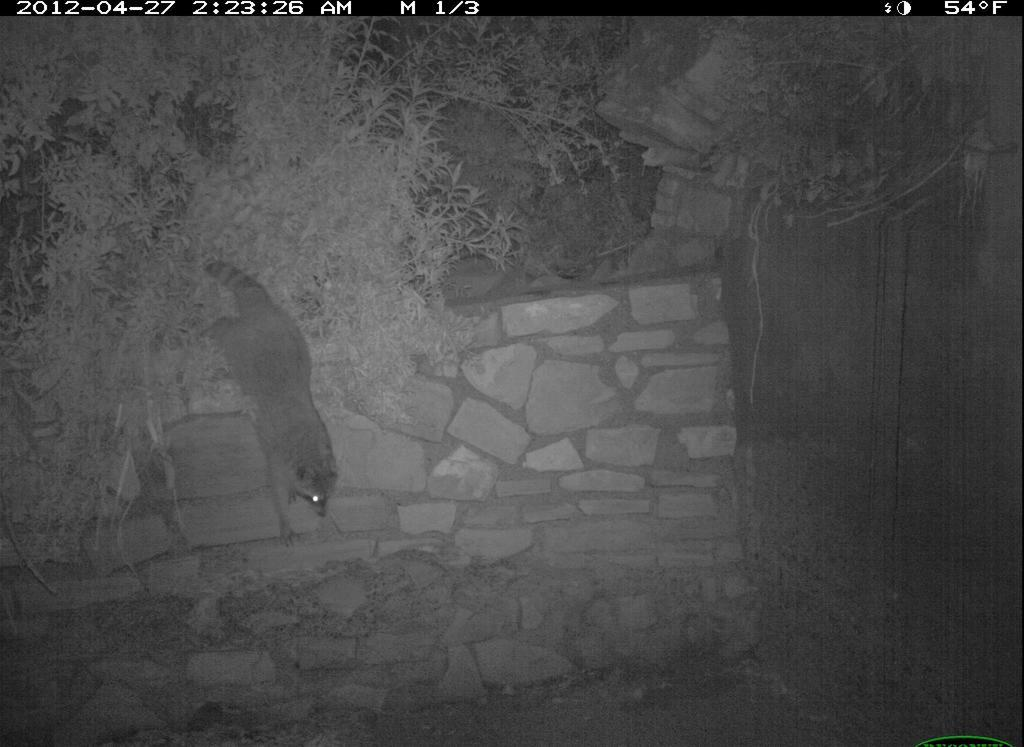raccoon: (201, 250, 353, 539)
